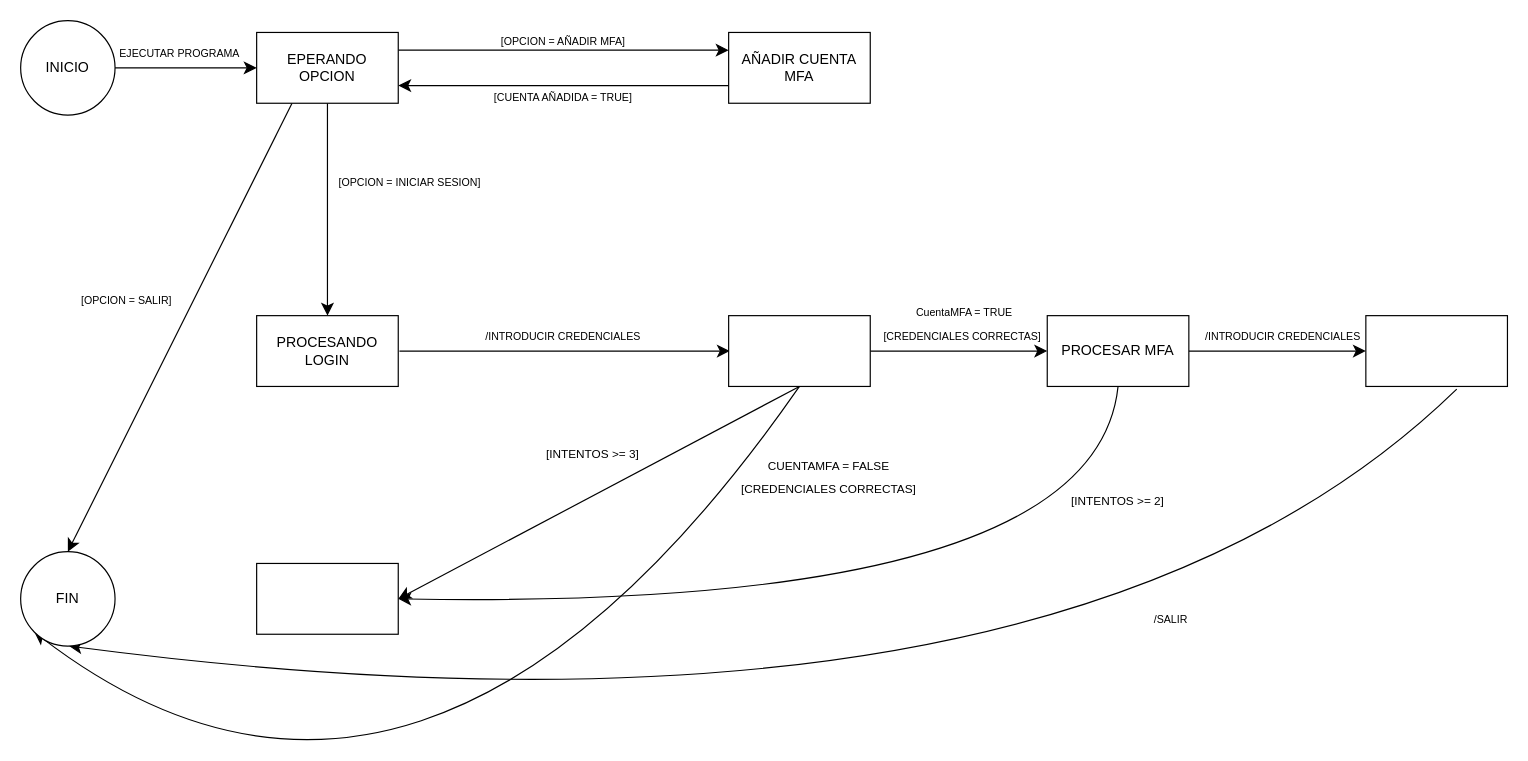
The diagram is 1528 pixels wide and 761 high, and some of its shapes have lost their labels. Each missing label, with the box of its shape:
BLOQUEADO: (255, 562, 398, 634)
PROCESANDO AUTENTICACION: (727, 314, 870, 386)
SESION ACTIVA: (1365, 314, 1507, 386)
